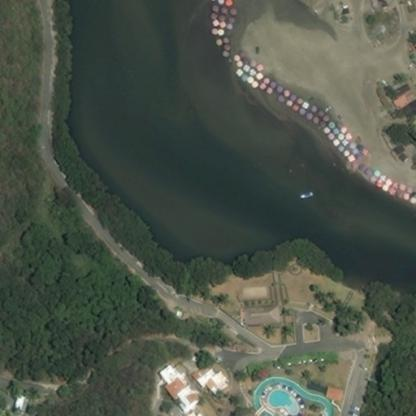ship: (304, 22, 308, 34)
